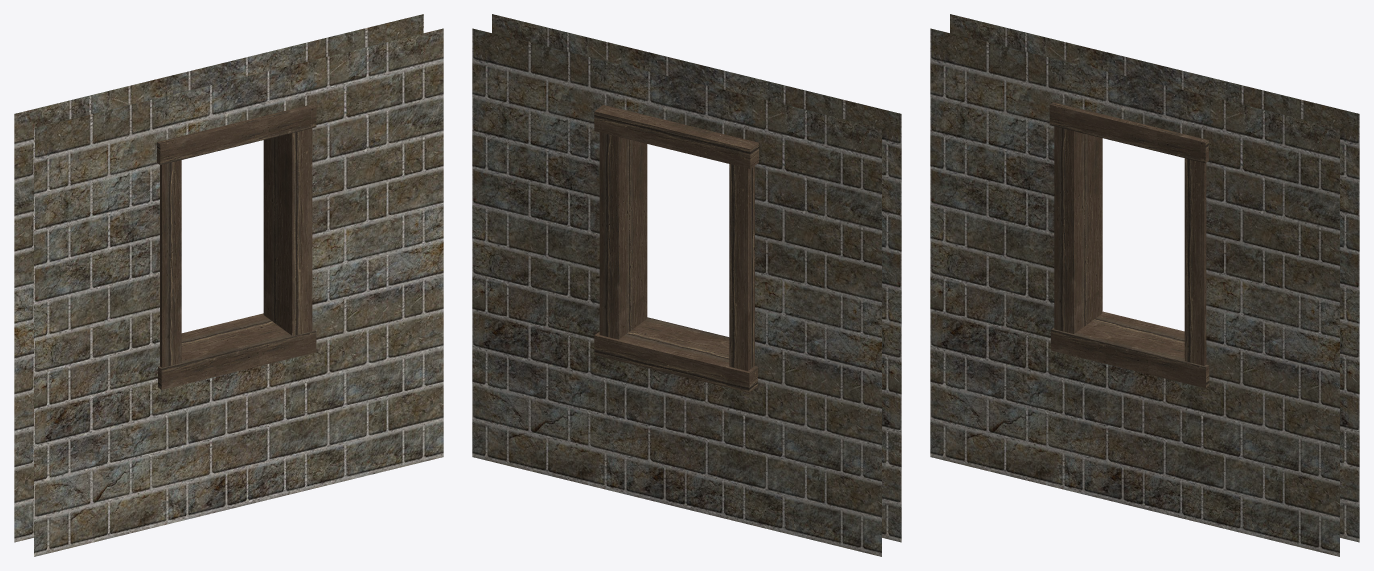
Rendered from ARC1010213.fbx.
3 views of the same model, side by side, from view 1: azimuth 30°, elevation 25°; view 2: azimuth 150°, elevation 25°; view 3: azimuth 330°, elevation 25° (orthographic).
Parts seen in each view (by area): view 1: smARC1010213; view 2: smARC1010213; view 3: smARC1010213.
Part boxes in pixels (box(x1,y1,x2,y2)): smARC1010213: box(14, 14, 443, 556); smARC1010213: box(472, 14, 901, 556); smARC1010213: box(930, 14, 1359, 556).
Bounding box in the file's own units: 268 × 268 × 36.12.
1 material, 1 textured.
